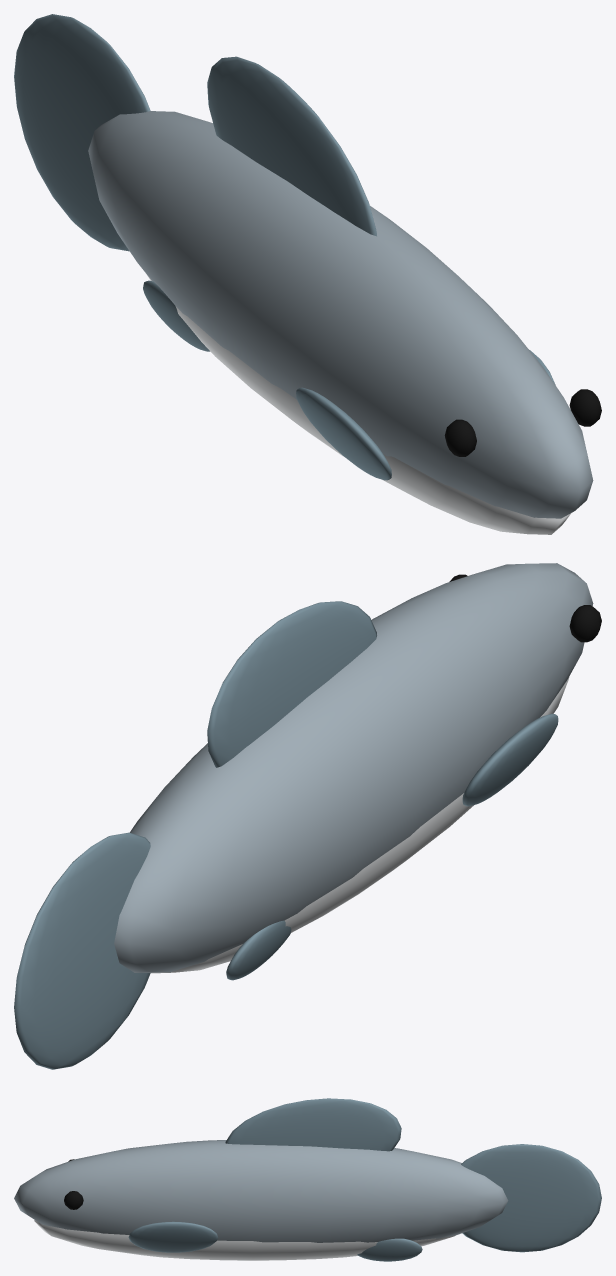
Rendered from pangasius.glb.
The picture shows the model from 3 angles, top to bottom: view 1: azimuth 30°, elevation 25°; view 2: azimuth 150°, elevation 25°; view 3: azimuth 270°, elevation 25°; orthographic projection. The views are drawn at different scales.
Visible parts, largest first — view 1: pangasius; view 2: pangasius; view 3: pangasius.
Boxes of the visible parts, left/top/right/bottom form: pangasius: left=14, top=14, right=601, bottom=534; pangasius: left=14, top=563, right=601, bottom=1069; pangasius: left=14, top=1098, right=601, bottom=1261.
Bounding box in the file's own units: 0.2521 × 0.3509 × 1.18.
